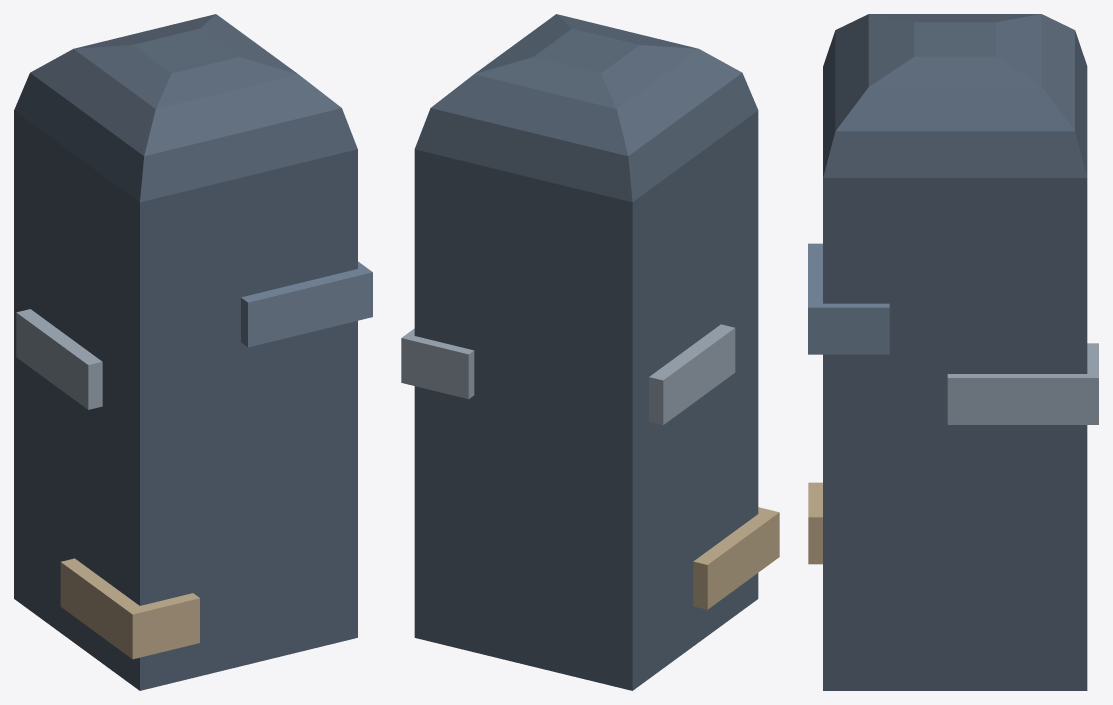
Rendered from wall1.fbx.
The picture shows the model from 3 angles, left to right: view 1: azimuth 30°, elevation 25°; view 2: azimuth 150°, elevation 25°; view 3: azimuth 270°, elevation 25°; orthographic projection. The views are drawn at different scales.
Visible parts, largest first — view 1: wall1; view 2: wall1; view 3: wall1.
Part boxes in pixels (x1,y1,x2,y2): wall1: (14, 14, 372, 690); wall1: (401, 14, 779, 690); wall1: (808, 14, 1098, 690).
Bounding box in the file's own units: 71.18 × 161 × 71.15.
